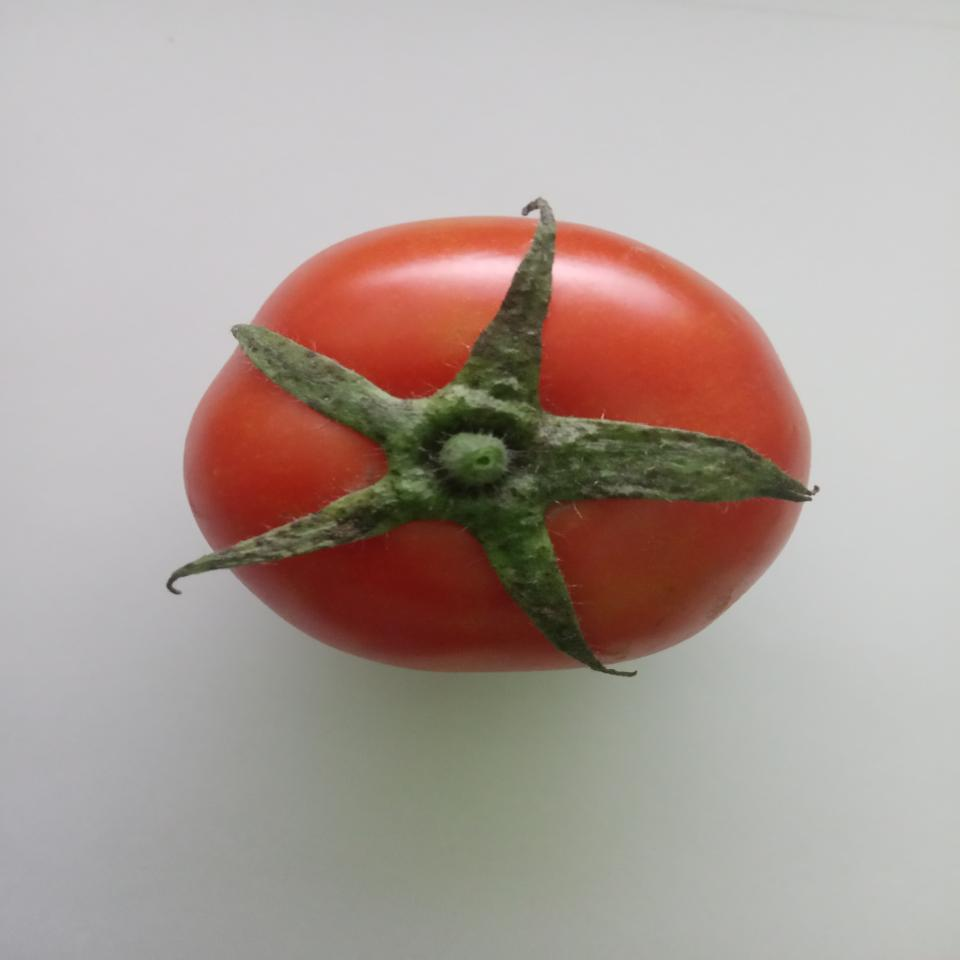Healthy: (167, 190, 818, 682)
